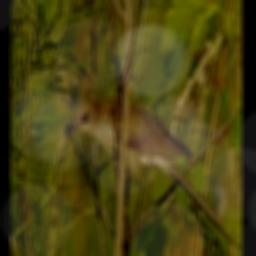Cuckoo: (65, 98, 234, 244)
